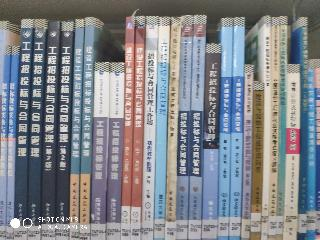book-spine: (28, 20, 47, 239), (15, 20, 33, 239), (42, 21, 60, 239), (189, 15, 206, 240), (176, 16, 193, 239), (56, 21, 73, 240), (142, 17, 158, 239), (154, 17, 170, 239), (79, 19, 95, 239), (203, 44, 220, 239), (106, 64, 124, 239), (121, 16, 135, 240), (131, 16, 145, 240), (70, 19, 84, 240), (230, 18, 244, 239), (166, 17, 179, 239), (219, 19, 232, 239), (92, 63, 108, 240), (6, 46, 19, 240), (285, 65, 299, 240), (0, 46, 12, 240), (269, 18, 279, 240), (250, 84, 263, 240), (277, 17, 286, 240), (242, 66, 252, 239), (263, 17, 269, 239), (301, 18, 307, 239), (307, 60, 314, 239)
